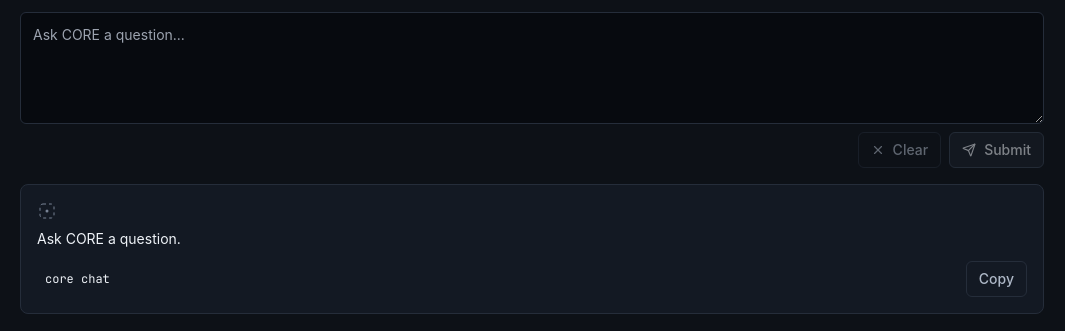
Test case: route conformance: Chat (interaction-driven states) › loading: shows a specific label after submit, never 'Thinking...'
The image size is (1065, 331).
In the text box with placeholder "Ask CORE a question...": (532, 68) [20, 12, 1044, 124], type "hello"
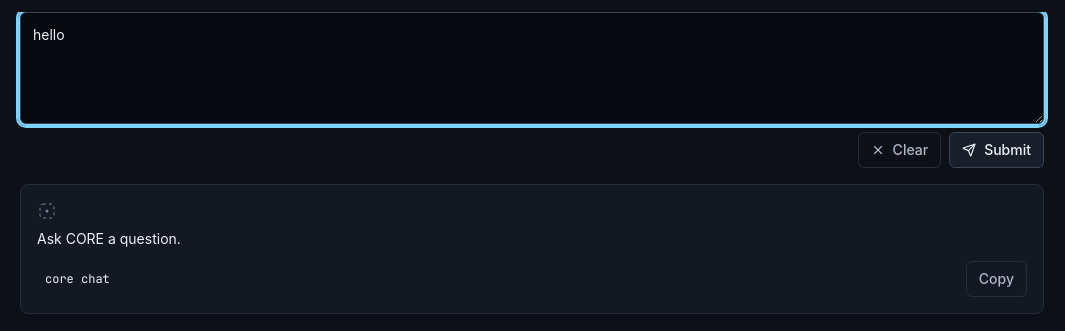
Click the button "Submit": (997, 150) [949, 132, 1044, 168]
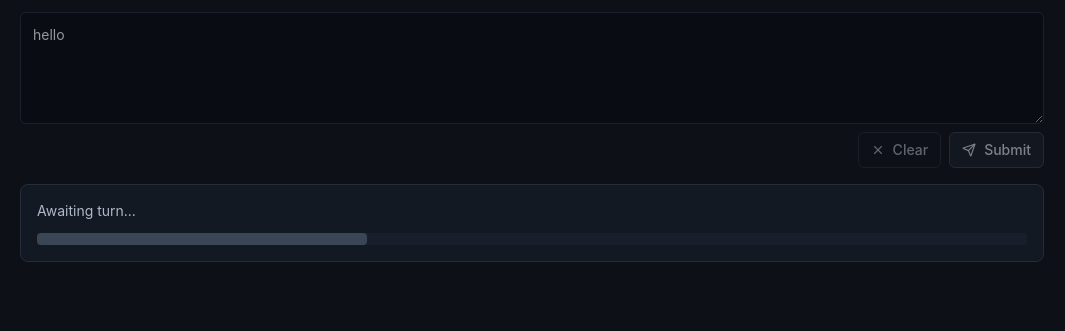
Expected: the text "Awaiting turn..." is shown, [37, 202, 136, 219]
